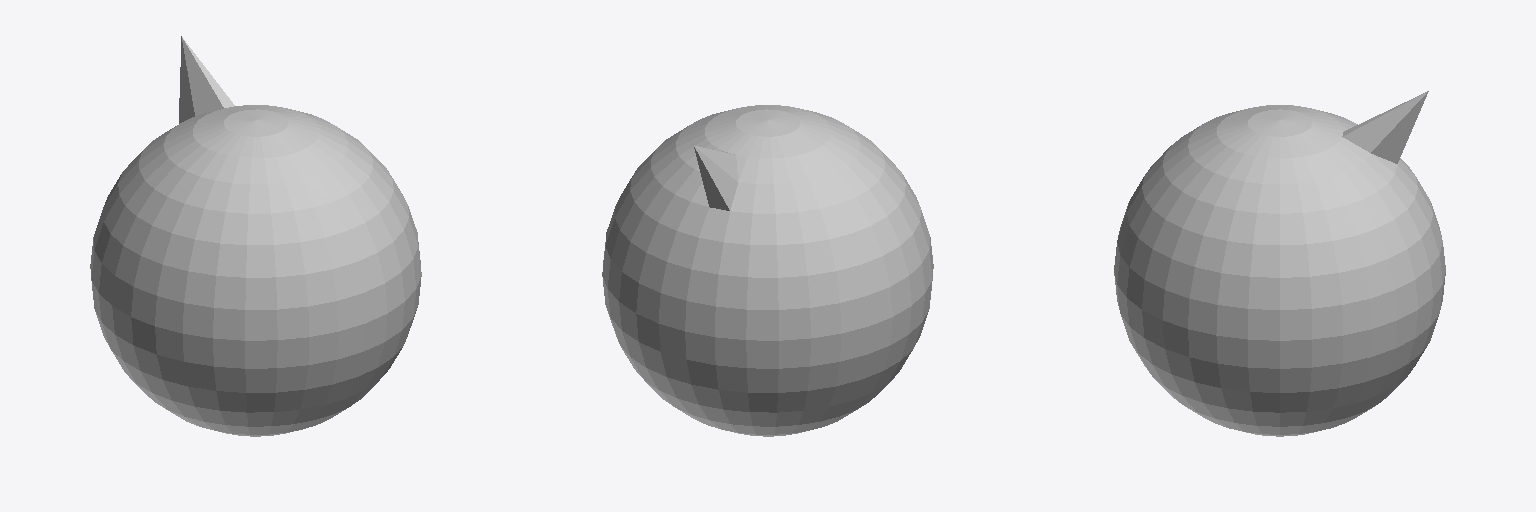
File: Player.obj
3 views of the same model, side by side, from view 1: azimuth 30°, elevation 25°; view 2: azimuth 150°, elevation 25°; view 3: azimuth 270°, elevation 25° (orthographic).
Visible parts, largest first — view 1: 球; view 2: 球; view 3: 球.
Part boxes in pixels (x1,y1,x2,y2): 球: (90, 36, 421, 436); 球: (602, 105, 933, 436); 球: (1114, 91, 1445, 436).
Size of the model in its own units: 2 by 2.2 by 2.